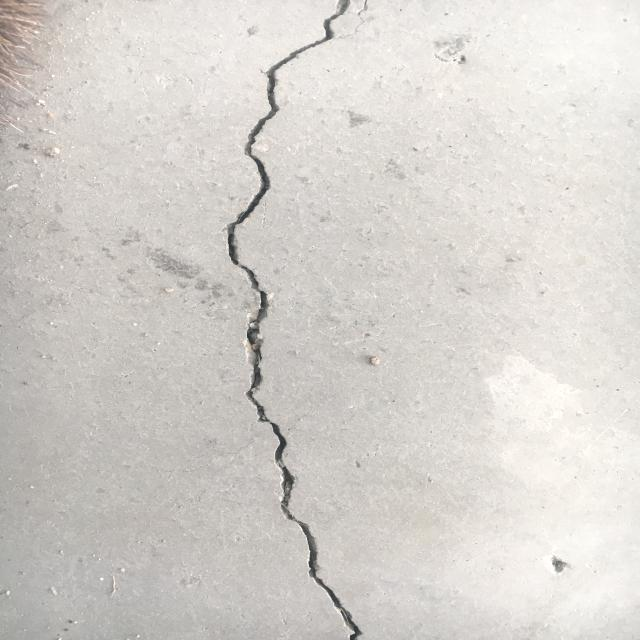SurfaceCrack: (198, 1, 394, 640)
